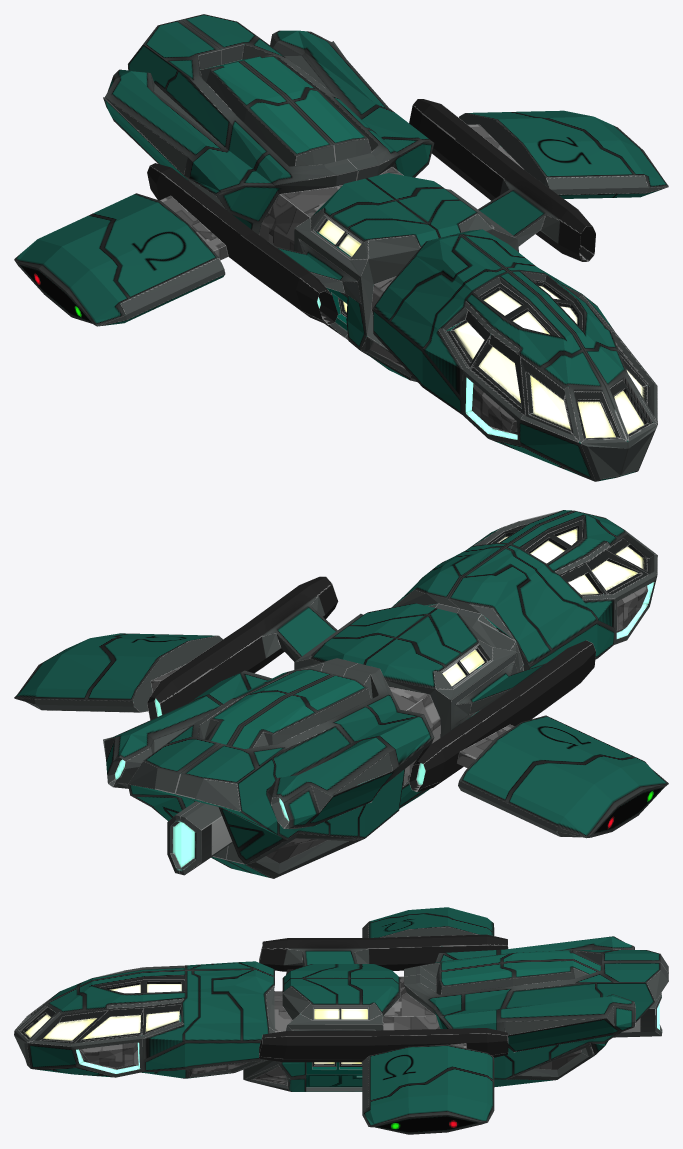
The model's file is Superfly.fbx.
3 renders of one model, top to bottom at view 1: azimuth 30°, elevation 25°; view 2: azimuth 150°, elevation 25°; view 3: azimuth 270°, elevation 25°, orthographic. The views are drawn at different scales.
Parts seen in each view (by area): view 1: Firefly; view 2: Firefly; view 3: Firefly.
Part boxes in pixels (x1,y1,x2,y2): Firefly: (14, 14, 668, 481); Firefly: (14, 510, 668, 878); Firefly: (14, 907, 668, 1134).
Bounding box in the file's own units: 2045 × 577 × 2772.
1 material, 1 textured.
